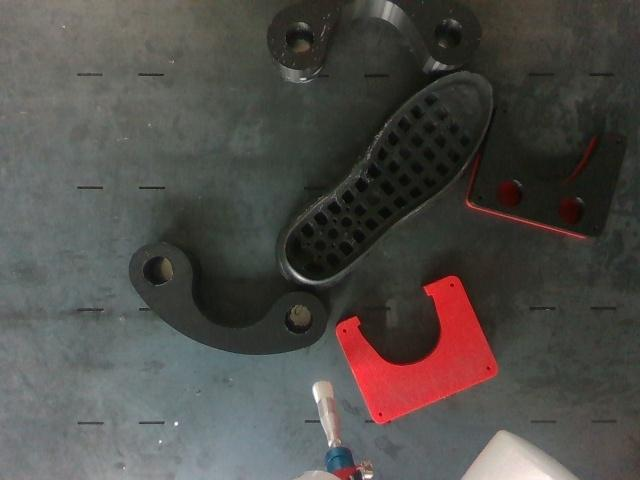shoes: (285, 72, 491, 282)
